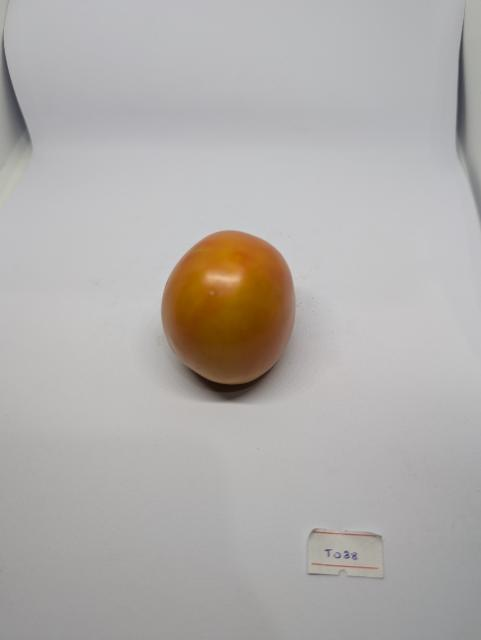turning: (158, 226, 309, 395)
